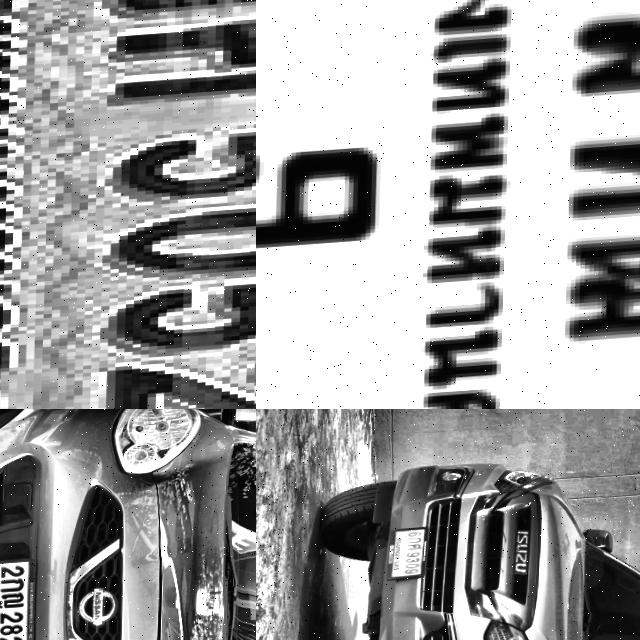license-plate: (256, 0, 640, 409), (0, 0, 256, 409), (0, 559, 38, 640), (387, 528, 432, 582)
